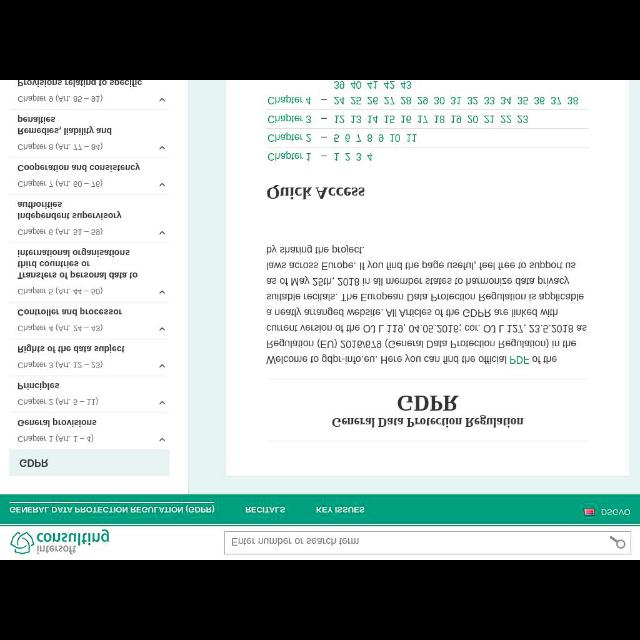icon: (610, 534, 626, 550), (582, 506, 596, 518), (158, 229, 168, 239), (158, 144, 168, 154), (157, 96, 169, 104), (158, 324, 166, 334), (158, 288, 168, 296), (158, 363, 168, 369), (158, 182, 168, 188), (158, 399, 166, 406), (158, 438, 166, 444)
image: (5, 528, 111, 558)
input: (222, 530, 634, 556)
link: (266, 114, 312, 126), (268, 132, 312, 144), (268, 152, 312, 162), (266, 96, 312, 105), (509, 355, 531, 367), (451, 112, 464, 126), (451, 95, 464, 108), (432, 94, 446, 106), (332, 81, 348, 91), (499, 95, 513, 106), (405, 132, 417, 144), (334, 114, 346, 126), (350, 95, 362, 107), (400, 94, 412, 106), (550, 94, 562, 106), (566, 96, 582, 105), (467, 112, 478, 125), (368, 112, 378, 126), (388, 133, 399, 145), (400, 114, 412, 125), (517, 95, 529, 106), (350, 81, 362, 92), (382, 96, 396, 105), (352, 113, 362, 125), (384, 113, 394, 125), (334, 96, 344, 108), (418, 96, 428, 108), (468, 96, 480, 106), (484, 97, 496, 107), (533, 96, 547, 104), (501, 115, 512, 125), (384, 81, 394, 92), (367, 96, 379, 105), (418, 115, 428, 125), (366, 132, 374, 144), (517, 116, 529, 124), (367, 82, 379, 90), (401, 81, 413, 89), (334, 134, 341, 146), (366, 152, 374, 162), (434, 116, 444, 124), (484, 116, 494, 124), (357, 150, 363, 162), (356, 132, 362, 144), (334, 152, 341, 162), (346, 152, 352, 162), (378, 133, 384, 143), (345, 135, 351, 143)
multitab: (1, 496, 639, 524)
spinner: (14, 392, 176, 412), (12, 88, 174, 108), (14, 224, 172, 244), (15, 356, 172, 376), (11, 174, 171, 193), (10, 138, 174, 156), (12, 322, 172, 340), (15, 284, 173, 302), (14, 432, 172, 448)
text: (263, 242, 592, 371), (331, 393, 527, 433), (16, 247, 138, 281), (8, 499, 218, 516), (16, 199, 124, 223), (17, 112, 115, 136), (266, 182, 368, 204), (232, 534, 360, 548), (15, 159, 143, 173), (16, 343, 126, 355), (15, 140, 109, 154), (17, 305, 124, 317), (15, 178, 104, 190), (17, 226, 105, 238), (18, 286, 104, 298), (18, 94, 104, 105), (17, 360, 105, 370), (17, 322, 104, 332), (17, 418, 97, 428), (16, 82, 142, 88), (16, 398, 100, 406), (17, 435, 95, 443), (16, 378, 58, 392), (316, 503, 364, 515), (244, 504, 288, 516), (602, 507, 632, 518), (18, 459, 50, 468)
toolbar: (2, 526, 640, 558)
